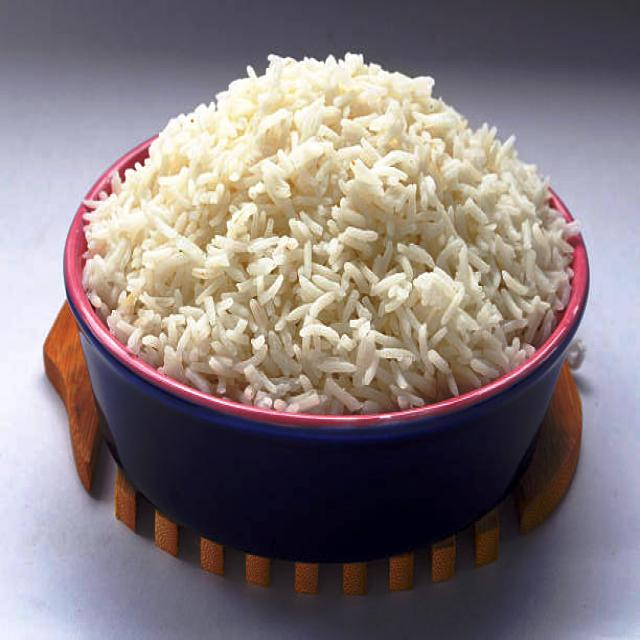rice: (82, 54, 584, 415)
